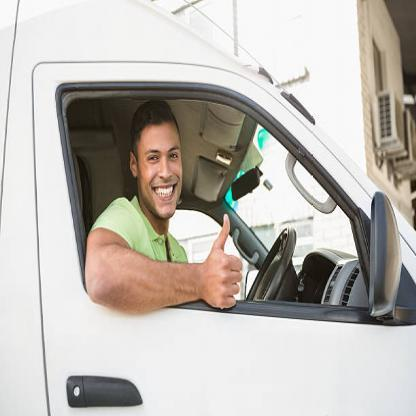thumb_up: (201, 211, 244, 312)
